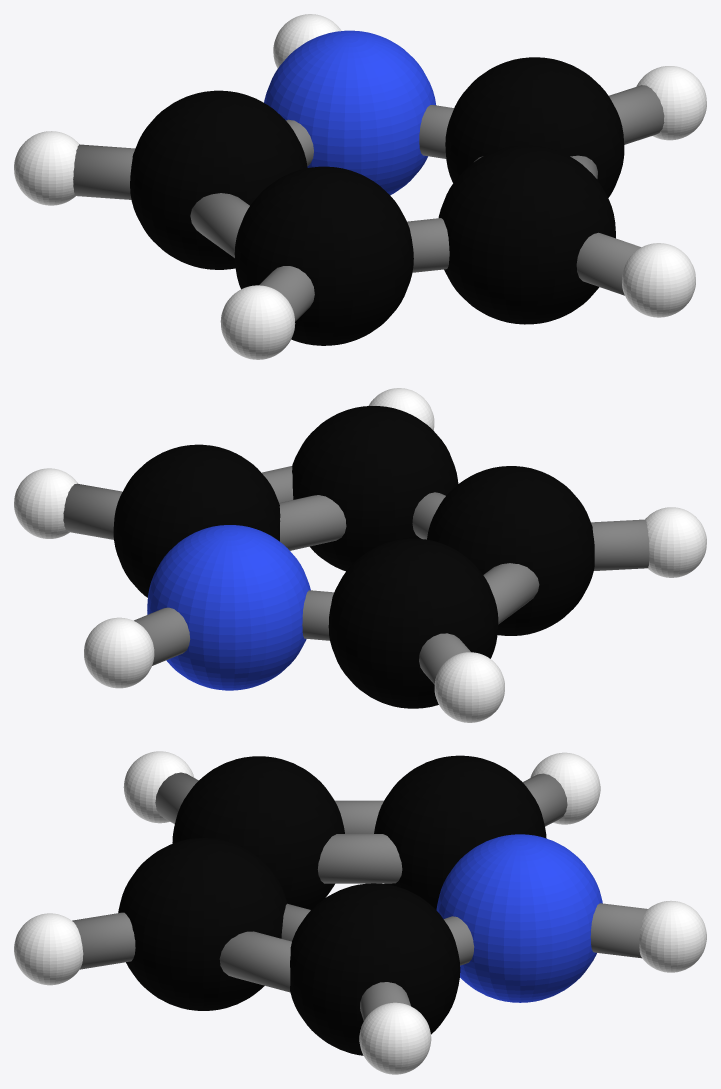
Rendered from PIRROL.obj.
The picture shows the model from 3 angles, top to bottom: view 1: azimuth 30°, elevation 25°; view 2: azimuth 150°, elevation 25°; view 3: azimuth 270°, elevation 25°; orthographic projection. The views are drawn at different scales.
Parts seen in each view (by area): view 1: Carbon_ball_Sphere, Nitrogen_ball_Sphere.002, Hydrogen_ball_Sphere.001, Stick_Cylinder.001_Cylinder.001, Stick_Cylinder.006_Cylinder.006, Stick_Cylinder_Cylinder, Stick_Cylinder.007_Cylinder.007, Stick_Cylinder.003_Cylinder.003, Stick_Cylinder.004_Cylinder.004, Stick_Cylinder.008_Cylinder.008; view 2: Carbon_ball_Sphere, Nitrogen_ball_Sphere.002, Hydrogen_ball_Sphere.001, Stick_Cylinder.005_Cylinder.005, Stick_Cylinder.004_Cylinder.004, Stick_Cylinder.007_Cylinder.007, Stick_Cylinder_Cylinder, Stick_Cylinder.009_Cylinder.009, Stick_Cylinder.001_Cylinder.001, Stick_Cylinder.002_Cylinder.002, Stick_Cylinder.003_Cylinder.003, Stick_Cylinder.011_Cylinder.011; view 3: Carbon_ball_Sphere, Nitrogen_ball_Sphere.002, Hydrogen_ball_Sphere.001, Stick_Cylinder.010_Cylinder.010, Stick_Cylinder.011_Cylinder.011, Stick_Cylinder.006_Cylinder.006, Stick_Cylinder.009_Cylinder.009, Stick_Cylinder.001_Cylinder.001, Stick_Cylinder_Cylinder, Stick_Cylinder.004_Cylinder.004, Stick_Cylinder.007_Cylinder.007, Stick_Cylinder.008_Cylinder.008 (+1 smaller).
Boxes of the visible parts, x1,y1,x2,y2 form: Carbon_ball_Sphere: (130,57,624,345); Nitrogen_ball_Sphere.002: (264,30,435,195); Hydrogen_ball_Sphere.001: (14,14,706,359); Stick_Cylinder.001_Cylinder.001: (73,144,135,199); Stick_Cylinder.006_Cylinder.006: (576,232,641,295); Stick_Cylinder_Cylinder: (190,193,249,257); Stick_Cylinder.007_Cylinder.007: (609,85,664,144); Stick_Cylinder.003_Cylinder.003: (407,218,449,272); Stick_Cylinder.004_Cylinder.004: (259,266,314,321); Stick_Cylinder.008_Cylinder.008: (419,105,453,158); Carbon_ball_Sphere: (113,406,594,708); Nitrogen_ball_Sphere.002: (147,525,310,690); Hydrogen_ball_Sphere.001: (14,388,706,722); Stick_Cylinder.005_Cylinder.005: (279,495,346,550); Stick_Cylinder.004_Cylinder.004: (591,519,649,570); Stick_Cylinder.007_Cylinder.007: (63,483,122,539); Stick_Cylinder_Cylinder: (483,563,539,624); Stick_Cylinder.009_Cylinder.009: (134,607,190,665); Stick_Cylinder.001_Cylinder.001: (419,633,470,684); Stick_Cylinder.002_Cylinder.002: (302,590,334,640); Stick_Cylinder.003_Cylinder.003: (412,492,445,539); Stick_Cylinder.011_Cylinder.011: (261,466,293,502); Carbon_ball_Sphere: (118,755,546,1055); Nitrogen_ball_Sphere.002: (436,834,602,1002); Hydrogen_ball_Sphere.001: (14,751,706,1074); Stick_Cylinder.010_Cylinder.010: (317,834,402,883); Stick_Cylinder.011_Cylinder.011: (219,931,291,992); Stick_Cylinder.006_Cylinder.006: (72,912,135,969); Stick_Cylinder.009_Cylinder.009: (590,903,647,958); Stick_Cylinder.001_Cylinder.001: (522,773,567,826); Stick_Cylinder_Cylinder: (335,800,383,833); Stick_Cylinder.004_Cylinder.004: (155,772,198,823); Stick_Cylinder.007_Cylinder.007: (360,982,410,1020); Stick_Cylinder.008_Cylinder.008: (443,916,474,965).
Bounding box in the file's own units: 5.34 × 1.39 × 5.54.
